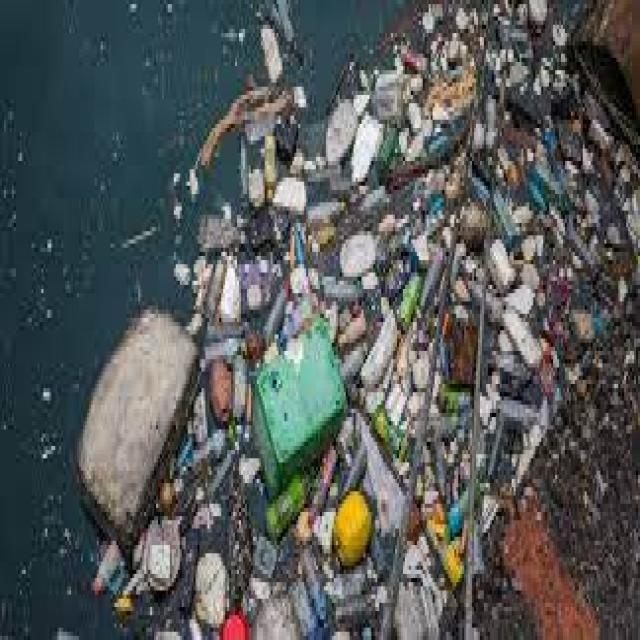litter: (194, 159, 463, 330), (204, 480, 474, 640), (66, 292, 201, 535), (506, 33, 596, 370), (352, 70, 428, 403)
